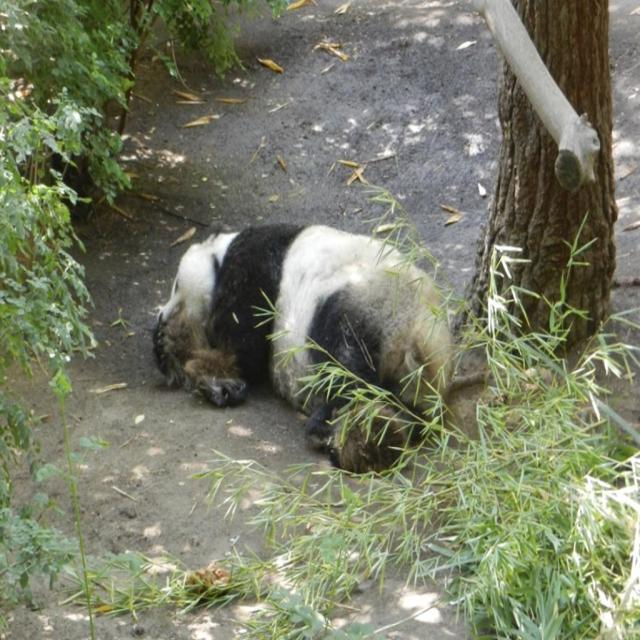panda: (144, 229, 465, 476)
